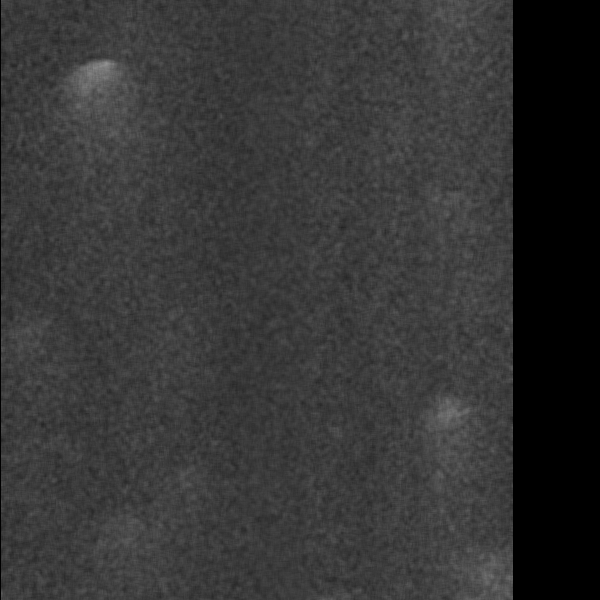spark: (193, 275, 226, 328), (181, 78, 226, 100)
